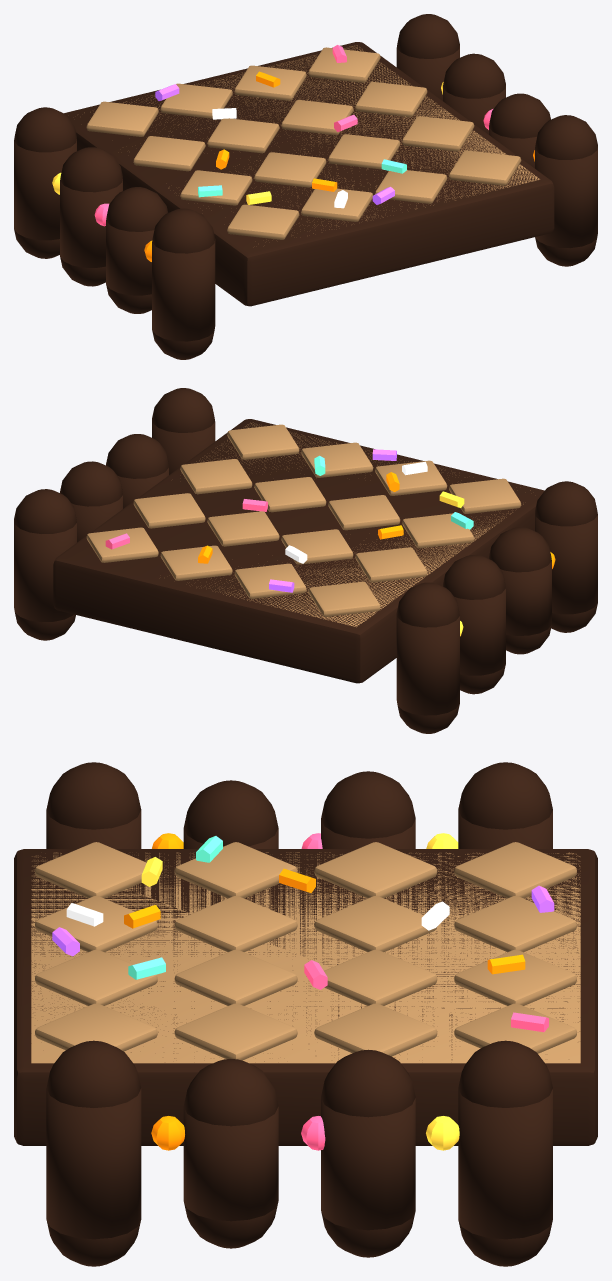
File: tile_b.glb
3 views of the same model, one above another, from view 1: azimuth 30°, elevation 25°; view 2: azimuth 150°, elevation 25°; view 3: azimuth 270°, elevation 25° (orthographic). The views are drawn at different scales.
Parts seen in each view (by area): view 1: Base, Drip, Drip.004, Drip.003, Drip.002, Drip.001, Top, Drip.007, Drip.006, Drip.005, Cell, Cell.012 (+14 smaller); view 2: Base, Drip.003, Drip.007, Drip, Drip.002, Drip.001, Drip.004, Top, Drip.006, Drip.005, Cell.010, Cell.014 (+14 smaller); view 3: Top, Base, Drip.004, Drip.007, Drip.006, Drip.005, Drip, Drip.003, Drip.002, Drip.001, Cell.013, Cell.002 (+17 smaller).
Part boxes in pixels (x1,y1,x2,y2): Base: (64, 42, 554, 306); Drip: (152, 208, 215, 359); Drip.004: (535, 115, 597, 266); Drip.003: (14, 107, 76, 258); Drip.002: (60, 147, 122, 286); Drip.001: (106, 187, 168, 313); Top: (84, 45, 539, 233); Drip.007: (396, 14, 459, 100); Drip.006: (443, 53, 505, 134); Drip.005: (489, 93, 550, 168); Cell: (227, 204, 299, 239); Cell.012: (449, 150, 521, 185); Base: (53, 419, 544, 683); Drip.003: (396, 582, 459, 733); Drip.007: (14, 489, 76, 640); Drip: (535, 481, 597, 632); Drip.002: (443, 555, 505, 694); Drip.001: (489, 527, 551, 654); Drip.004: (152, 388, 215, 474); Top: (196, 422, 530, 627); Drip.006: (60, 461, 122, 542); Drip.005: (106, 434, 168, 508); Cell.010: (207, 511, 279, 546); Cell.014: (133, 493, 205, 528); Top: (31, 852, 580, 1063); Base: (14, 849, 597, 1145); Drip.004: (46, 1040, 141, 1266); Drip.007: (458, 1040, 552, 1266); Drip.006: (321, 1049, 415, 1257); Drip.005: (183, 1059, 278, 1248); Drip: (46, 762, 141, 848); Drip.003: (458, 762, 552, 848); Drip.002: (321, 771, 415, 848); Drip.001: (183, 780, 278, 848); Cell.013: (174, 1003, 297, 1060); Cell.002: (314, 842, 437, 898).
Size of the model in its own units: 3.02 by 0.96 by 2.34.
